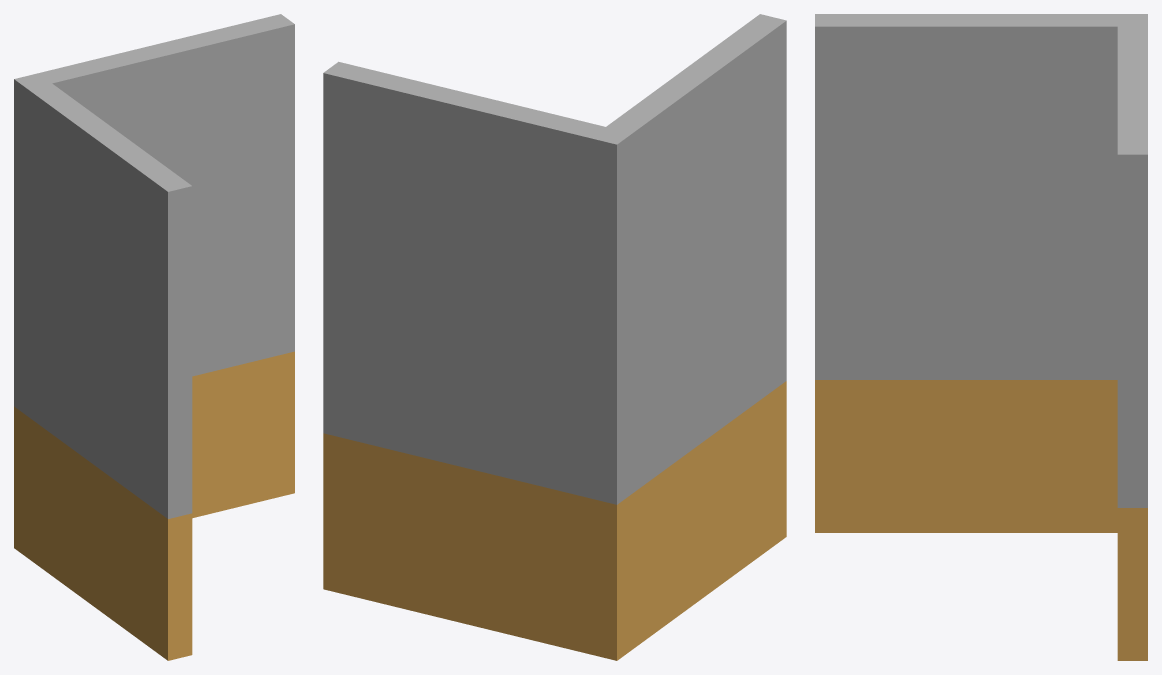
The model's file is Wall_Corner.fbx.
3 views of the same model, side by side, from view 1: azimuth 30°, elevation 25°; view 2: azimuth 150°, elevation 25°; view 3: azimuth 270°, elevation 25° (orthographic). The views are drawn at different scales.
Parts seen in each view (by area): view 1: Wall_Corner; view 2: Wall_Corner; view 3: Wall_Corner.
Part boxes in pixels (left/top/right/bottom): Wall_Corner: left=14, top=14, right=294, bottom=660; Wall_Corner: left=323, top=14, right=786, bottom=660; Wall_Corner: left=815, top=14, right=1147, bottom=660.
Size of the model in its own units: 419 by 703 by 419.
